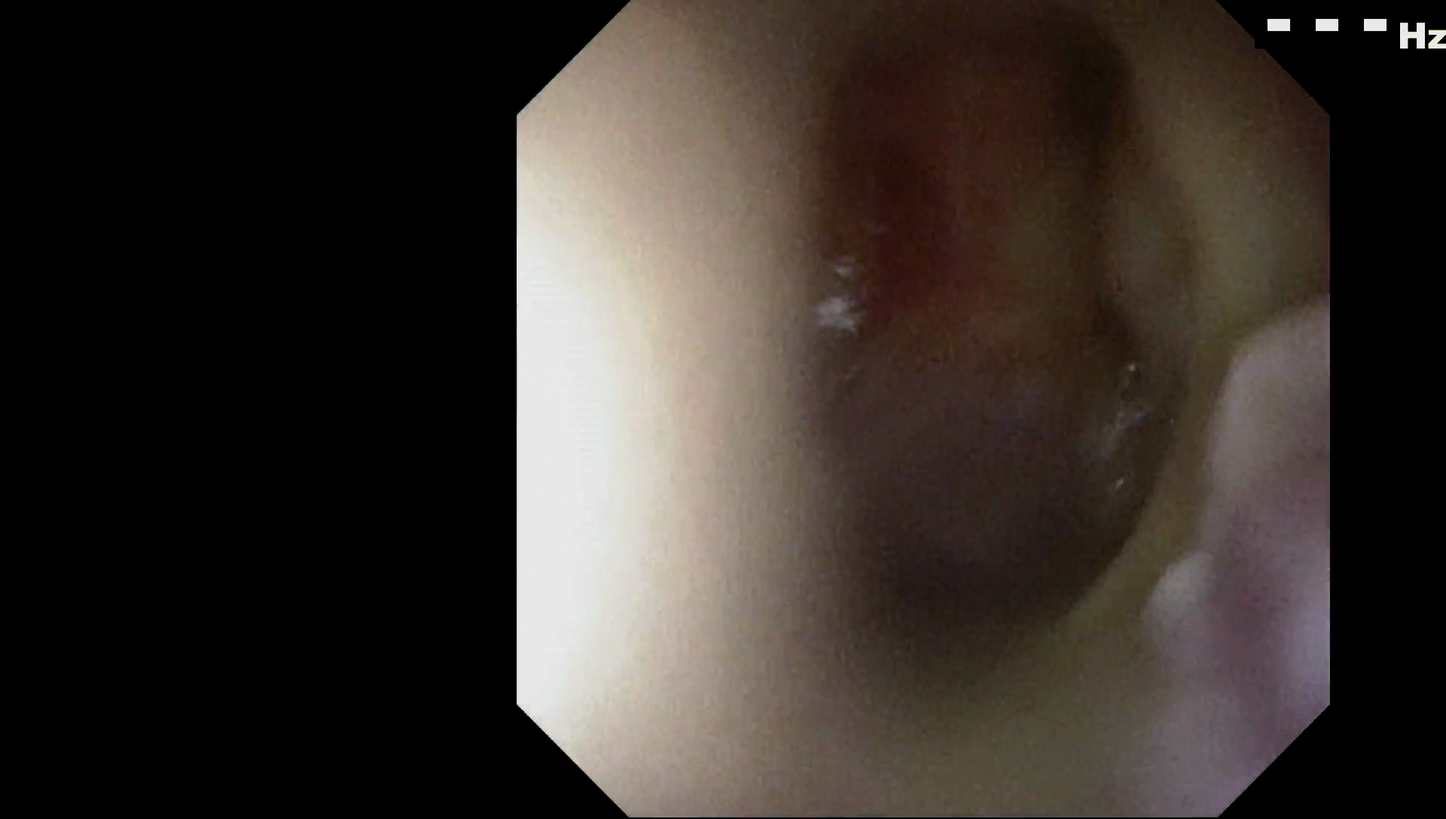close_wall: (518, 124, 904, 695)
next: (955, 424, 1157, 641), (1023, 11, 1156, 178)
